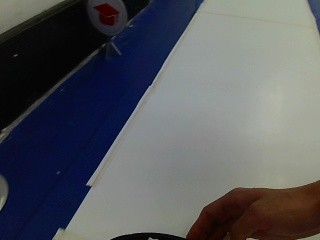school: (83, 0, 127, 40)
